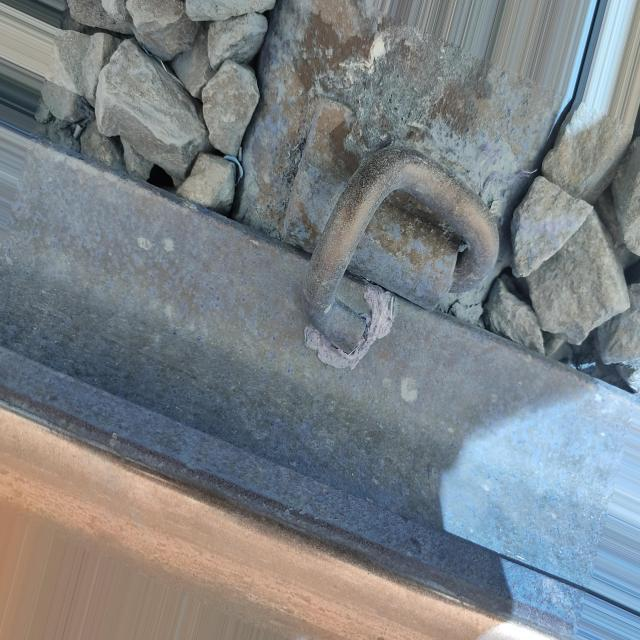Good Fasteners: (281, 85, 507, 384)
